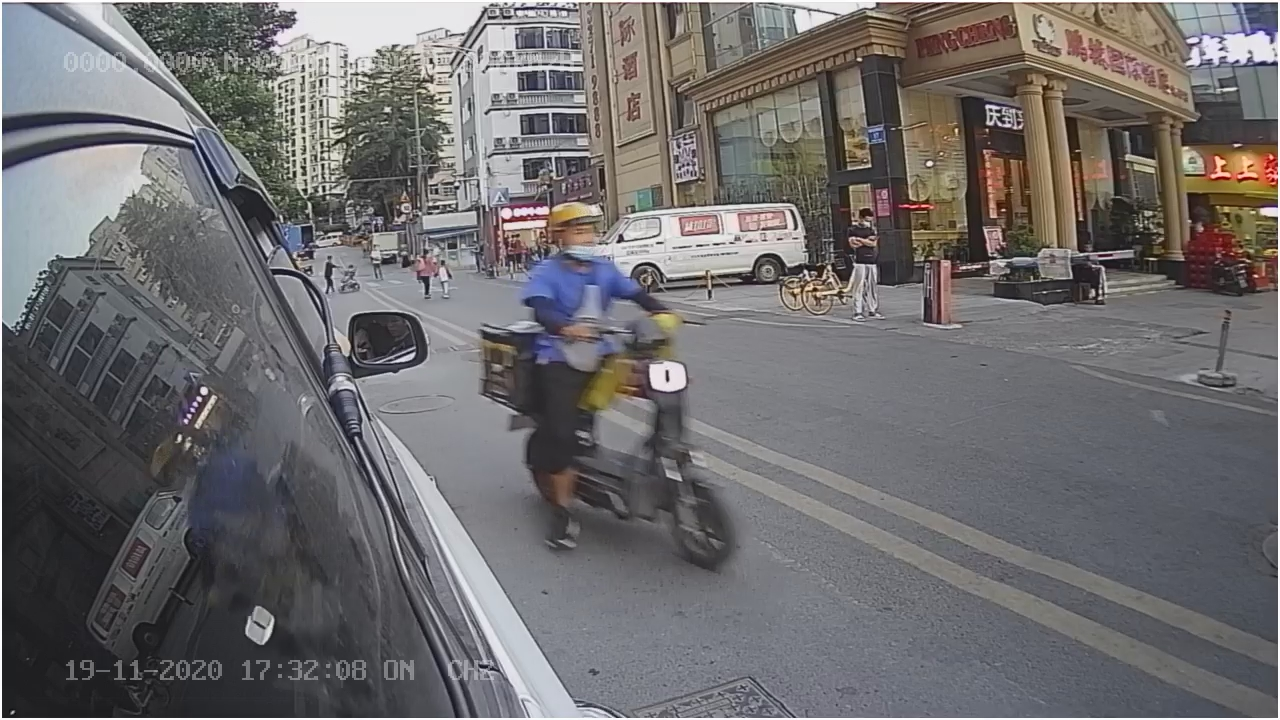person: (517, 192, 645, 329)
